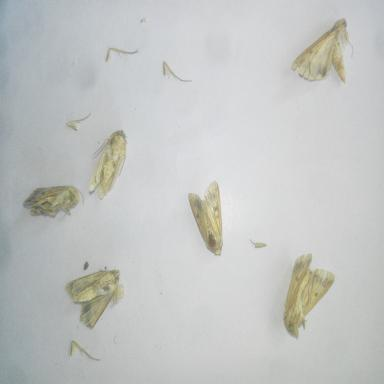abw: (281, 250, 338, 343), (289, 15, 356, 86), (64, 264, 122, 333), (184, 178, 228, 260), (86, 125, 129, 202), (20, 182, 86, 223)
